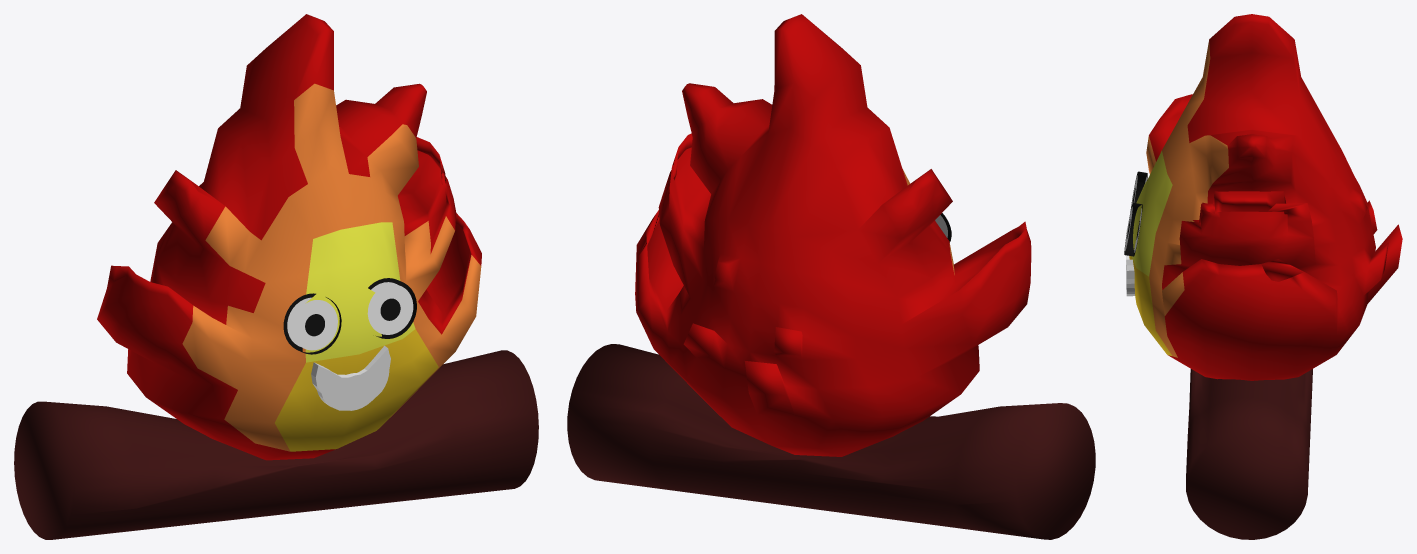
File: Calcifer.gltf
3 renders of one model, left to right at view 1: azimuth 30°, elevation 25°; view 2: azimuth 150°, elevation 25°; view 3: azimuth 270°, elevation 25°, orthographic. The views are drawn at different scales.
Parts seen in each view (by area): view 1: Cubo, Cilindro, Círculo, Círculo.001; view 2: Cubo, Cilindro; view 3: Cubo, Cilindro, Círculo, Círculo.001.
Part boxes in pixels (x1,y1,x2,y2): Cubo: (97, 14, 481, 460); Cilindro: (14, 350, 538, 539); Círculo: (283, 278, 416, 354); Círculo.001: (311, 345, 390, 410); Cubo: (635, 14, 1031, 456); Cilindro: (567, 344, 1095, 539); Cubo: (1129, 14, 1402, 380); Cilindro: (1186, 369, 1312, 539); Círculo: (1124, 171, 1147, 256); Círculo.001: (1126, 229, 1134, 296).
Bounding box in the file's own units: 3.28 × 3.34 × 1.88.
